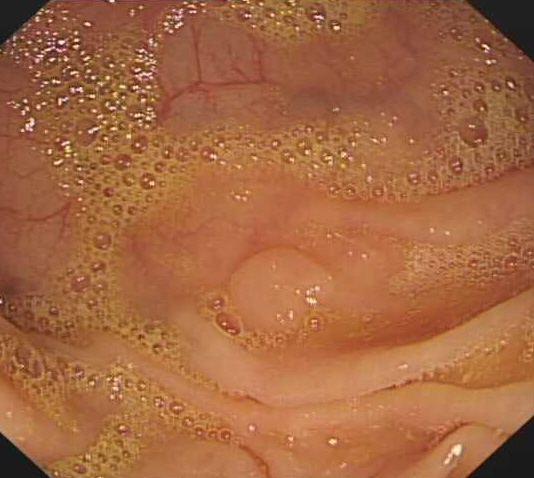adenoma: (225, 244, 333, 338)
